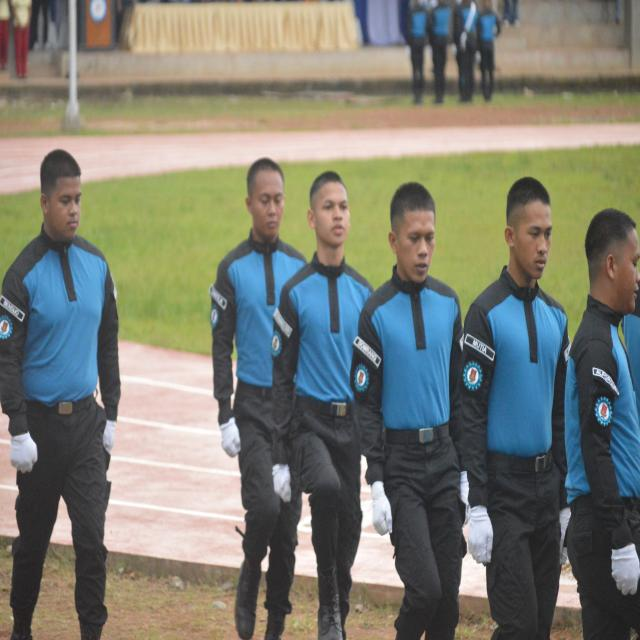person: (0, 150, 120, 639), (351, 183, 467, 639), (461, 178, 569, 639), (272, 172, 372, 639), (210, 158, 306, 639), (566, 209, 639, 639), (454, 0, 478, 102), (429, 0, 452, 104), (477, 0, 500, 102), (407, 0, 428, 104), (10, 0, 31, 78)
